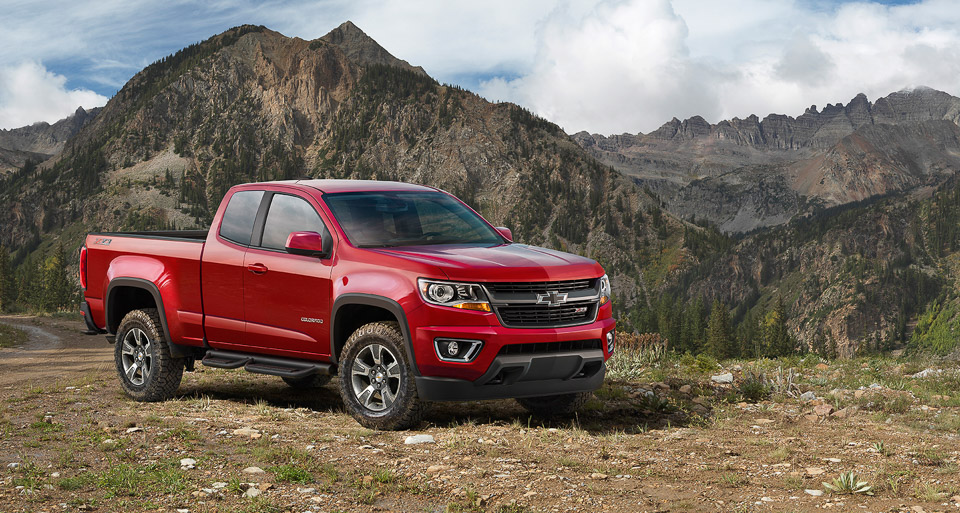pickup: (74, 176, 616, 433)
